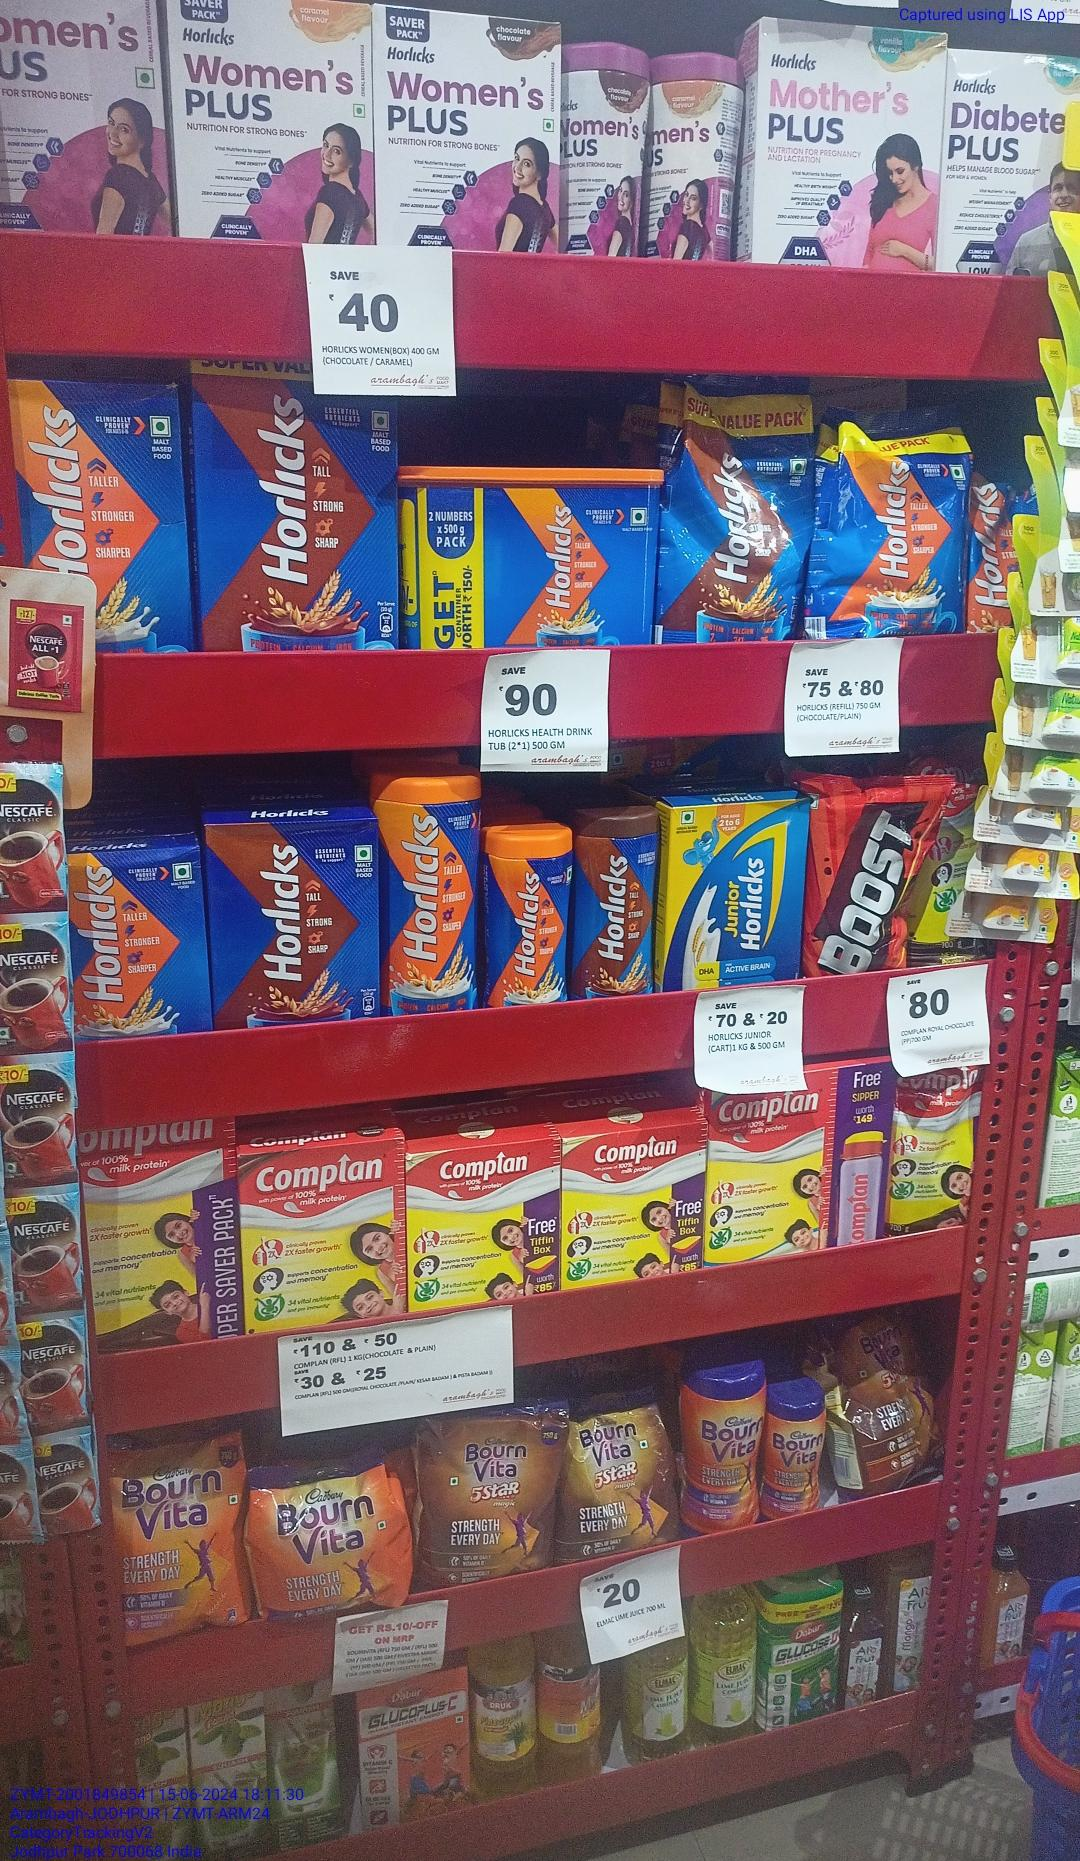BOURN_VITA_200_G_JAR: (768, 1392, 822, 1515)
BOURN_VITA_500_G_JAR: (680, 1356, 757, 1527)
BOURN_VITA_500_G_POUCH: (253, 1465, 406, 1608)
BOURN_VITA_750_G_POUCH: (118, 1428, 244, 1645)
BOURN_VITA_FIVE_STAR_MAGIC_500_G_POUCH: (568, 1403, 674, 1547)
BOURN_VITA_FIVE_STAR_MAGIC_750_G_POUCH: (422, 1414, 559, 1573)
COMPLAN_CHOCOLATE_1_KG_PACK: (98, 1123, 235, 1352)
COMPLAN_CREAMY_CLASSIC_500_G_PACK: (707, 1085, 890, 1260)
HORLICK_CHOCOLATE_1_KG_PACK: (198, 371, 404, 648)
HORLICK_CHOCOLATE_200_G_JAR: (575, 812, 654, 997)
HORLICK_CHOCOLATE_500_G_PACK: (211, 823, 381, 1018)
HORLICK_CHOCOLATE_750_G_POUCH: (667, 388, 807, 644)
HORLICK_CLASSIC_MALT_200_G_JAR: (485, 833, 566, 1005)
HORLICK_CLASSIC_MALT_500_G_JAR: (387, 775, 476, 1011)
HORLICK_CLASSIC_MALT_500_G_PACK: (10, 378, 186, 572), (73, 842, 201, 1045)
HORLICK_CLASSIC_MALT_750_G_POUCH: (822, 418, 964, 641)
HORLICK_MALT_1_KG_CONTAINER: (408, 472, 660, 648)
